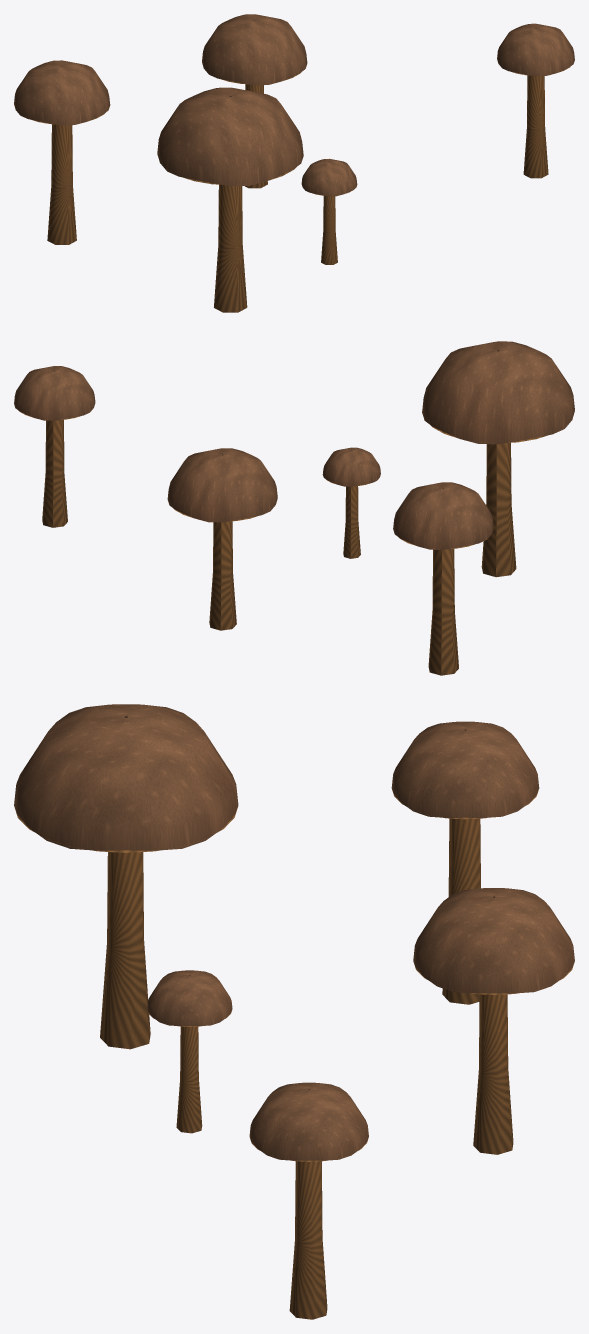
File: WoodlandCaps_A.fbx
3 views of the same model, one above another, from view 1: azimuth 30°, elevation 25°; view 2: azimuth 150°, elevation 25°; view 3: azimuth 270°, elevation 25° (orthographic). The views are drawn at different scales.
Parts seen in each view (by area): view 1: WoodlandCaps_A_LOD0; view 2: WoodlandCaps_A_LOD0; view 3: WoodlandCaps_A_LOD0.
Part boxes in pixels (left/top/right/bottom): WoodlandCaps_A_LOD0: left=14, top=14, right=574, bottom=312; WoodlandCaps_A_LOD0: left=14, top=341, right=574, bottom=675; WoodlandCaps_A_LOD0: left=14, top=704, right=574, bottom=1319.
Size of what is drawn, in the model's own units: 18.06 by 7.25 by 11.48.
Materials: 1 (1 with a texture image).
